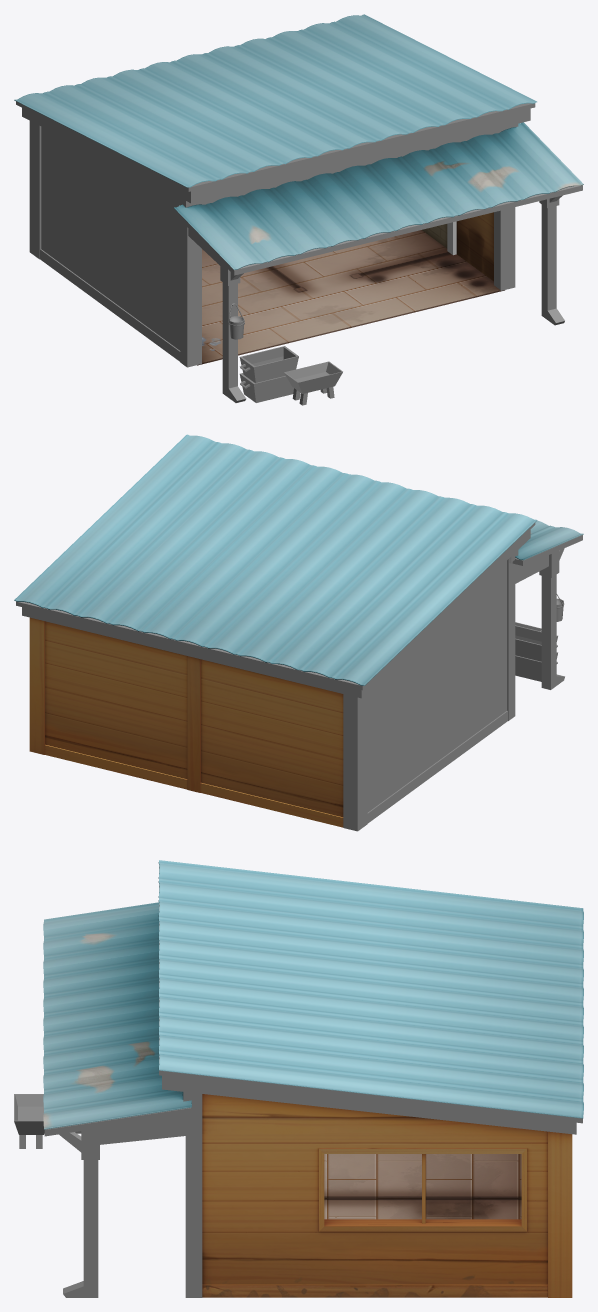
The model's file is huafang.FBX.
The picture shows the model from 3 angles, top to bottom: view 1: azimuth 30°, elevation 25°; view 2: azimuth 150°, elevation 25°; view 3: azimuth 270°, elevation 25°; orthographic projection. The views are drawn at different scales.
Visible parts, largest first — view 1: feed_outdoor, feed_indoor; view 2: feed_outdoor; view 3: feed_outdoor, feed_indoor.
Part boxes in pixels (x1,y1,x2,y2): feed_outdoor: (14, 14, 583, 405); feed_indoor: (179, 205, 504, 365); feed_outdoor: (14, 434, 583, 831); feed_outdoor: (14, 860, 583, 1297); feed_indoor: (324, 1154, 521, 1219).
Size of the model in its own units: 8016 by 4237 by 9198.
